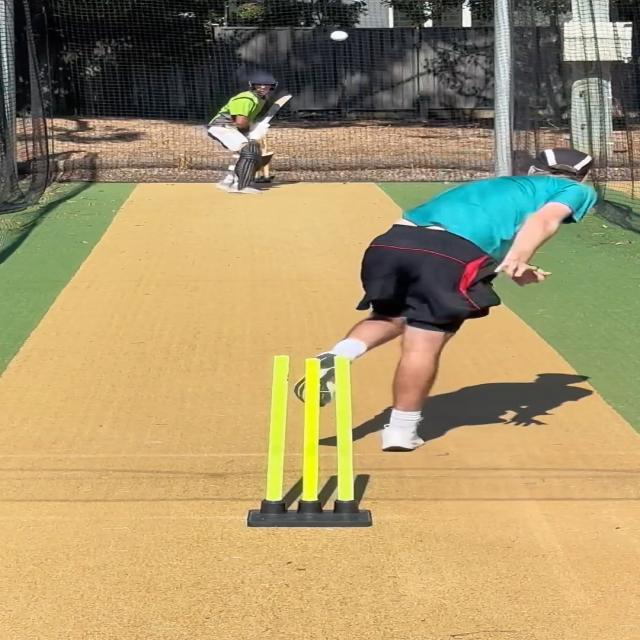ball: (328, 29, 350, 43)
stump: (247, 353, 372, 529)
